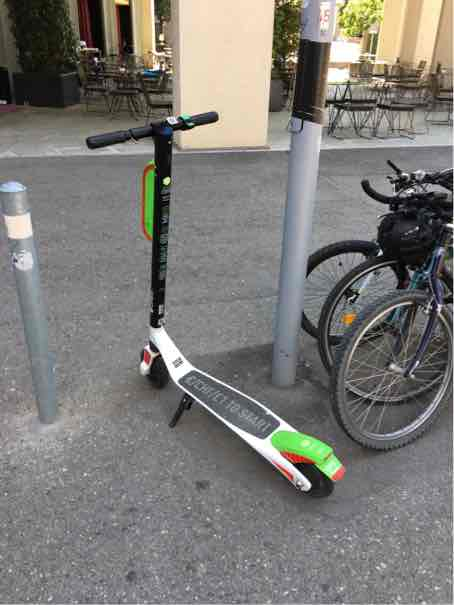scooter: (76, 111, 347, 504)
